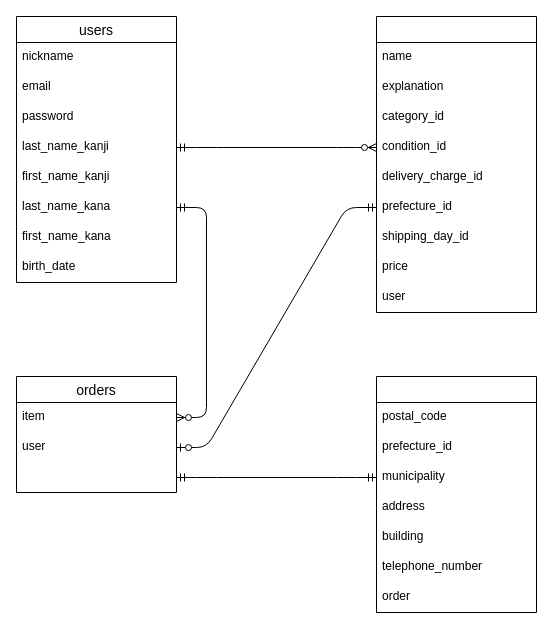
Some shapes in this 553 by 629 pixel diagram are drawn without their labels. Each missing label, with the box of its shape:
addresses: (376, 376, 536, 612)
items: (376, 16, 536, 312)
